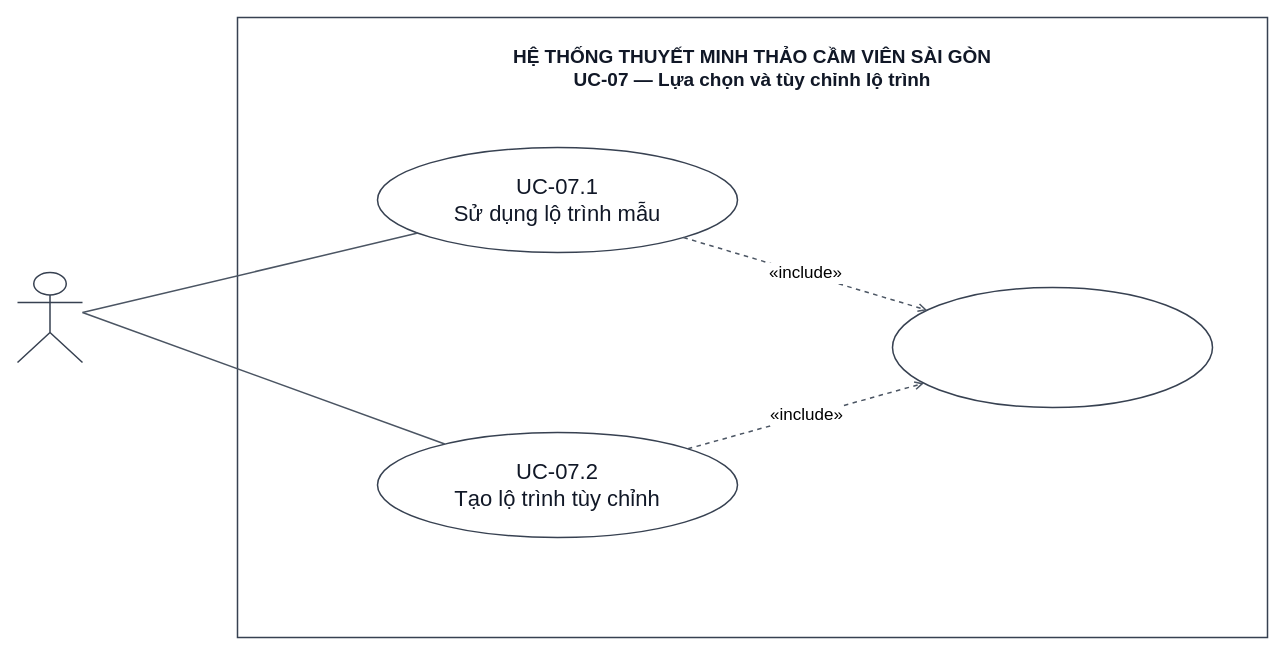
Image size: 1286x656. Some labels were removed from this diagram. Each missing label, with the centre of its shape:
Khách tham quan: (x=49, y=317)
UC-07.3 Xem lộ trình trên bản đồ: (x=1052, y=347)
